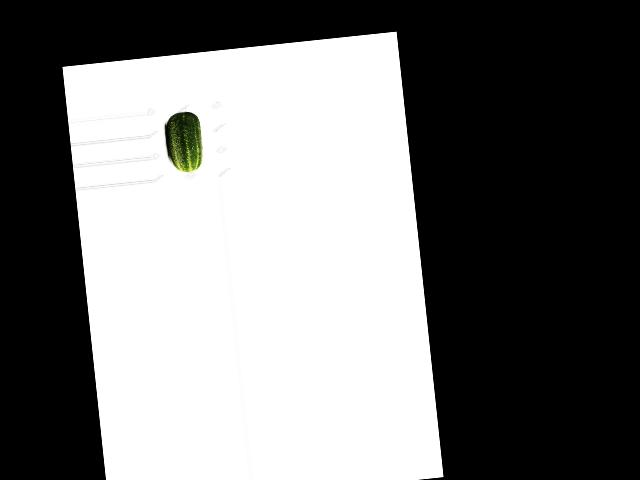cucumber: (163, 109, 204, 173)
